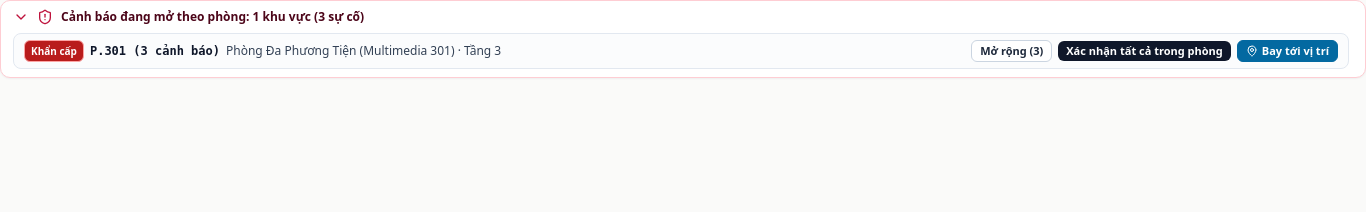
it: Phase 6 — Xử lý Cảnh báo Trực tiếp Trên Bản Đồ (TC-G6-06..11) › TC-G6-09: Gom nhóm nhiều cảnh báo trong cùng phòng P.301 (3 cảnh báo) với mức nghiêm trọng cao nhất & mở rộng xem con
The width and height of the screenshot is (1366, 212).
expect the element with test id "alert-group-ROOM_301" shows "P.301 (3 cảnh báo)": met, box [13,33,1349,69]
expect the element with test id "alert-group-ROOM_301" shows "Khẩn cấp": met, box [31,44,77,58]
// Bấm Mở rộng (3)
Click the button with test id "toggle-group-ROOM_301".
click(1012, 51)  # box [971,40,1052,62]
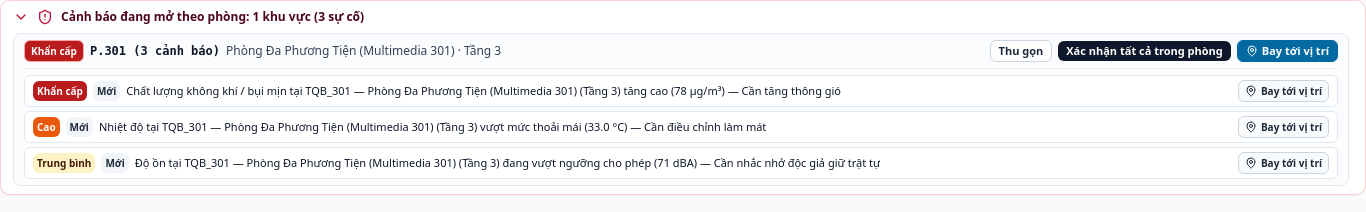
expect the element with test id "queue-alert-item-a-301-pm25" is shown: met, box [24,75,1338,107]
expect the element with test id "queue-alert-item-a-301-temp" is shown: met, box [24,111,1338,143]
expect the element with test id "queue-alert-item-a-301-noise" is shown: met, box [24,147,1338,179]
